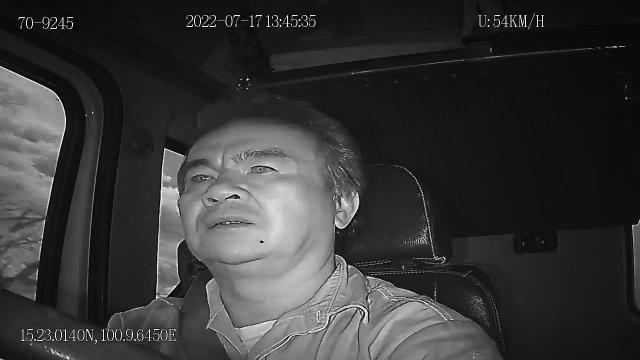SafeDriving: (239, 150, 288, 182), (183, 164, 220, 190)
Seatbelt: (175, 268, 233, 360)
